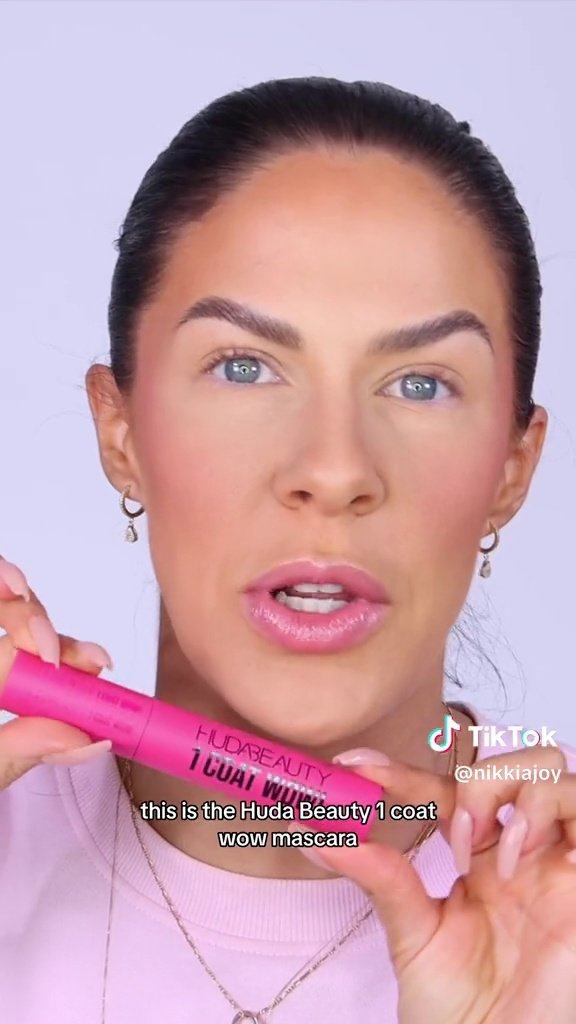train' :'yolo_data/train/images',: (1, 649, 390, 853)
